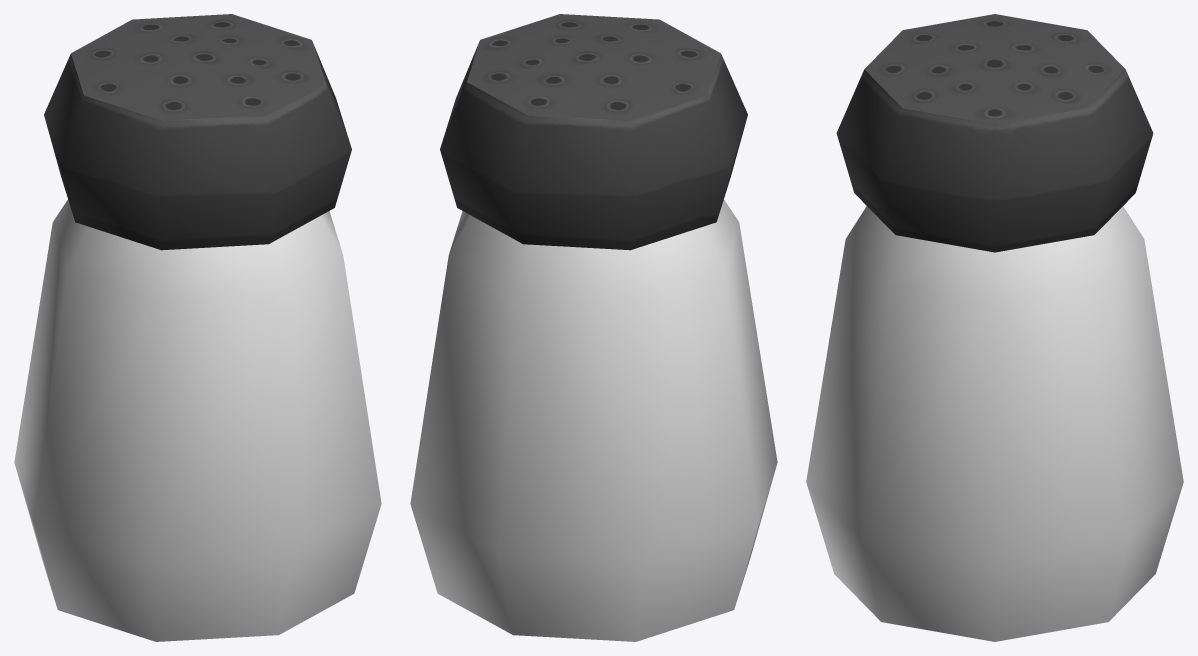
The model's file is pepper.FBX.
3 renders of one model, left to right at view 1: azimuth 30°, elevation 25°; view 2: azimuth 150°, elevation 25°; view 3: azimuth 270°, elevation 25°, orthographic.
Visible parts, largest first — view 1: pepper (×2); view 2: pepper (×2); view 3: pepper (×2).
Boxes of the visible parts, x1=… form: pepper (×2): x1=14, y1=14, x2=381, y2=641; pepper (×2): x1=410, y1=14, x2=777, y2=641; pepper (×2): x1=806, y1=14, x2=1183, y2=641.
Size of the model in its own units: 2.78 by 4.18 by 2.78.
